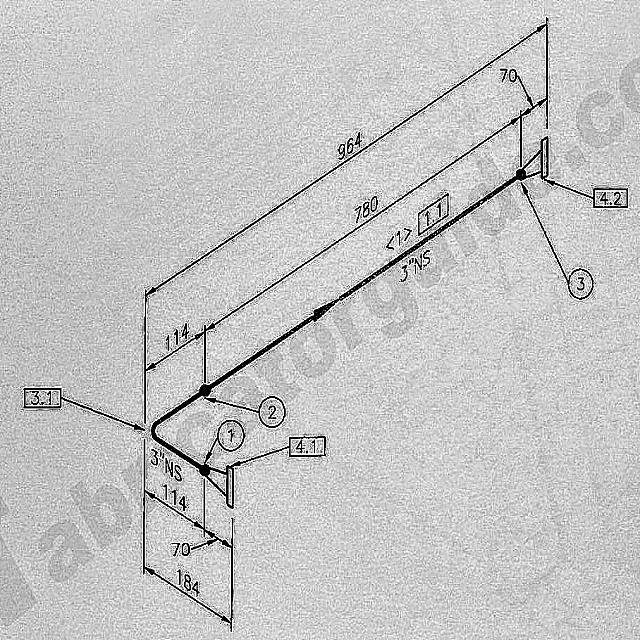Item number: (416, 188, 452, 240), (20, 382, 63, 412), (285, 431, 327, 460), (592, 184, 630, 210)
Measrement: (140, 6, 550, 310), (204, 110, 524, 338), (143, 556, 230, 634), (144, 312, 208, 377), (144, 476, 203, 532), (498, 62, 549, 117), (164, 523, 230, 563), (396, 241, 437, 294), (146, 442, 185, 490)
Pipeline: (146, 169, 518, 474)
Symbol: (195, 456, 240, 513), (514, 131, 554, 185)
Weld number: (214, 415, 247, 455), (256, 392, 288, 431), (566, 263, 596, 303)
